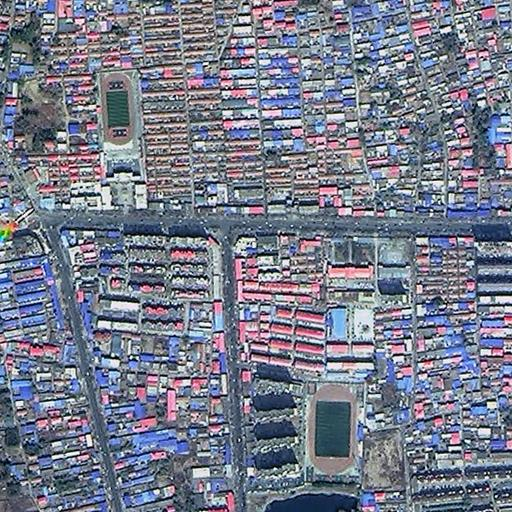school: (300, 234, 376, 484), (99, 69, 143, 212)
